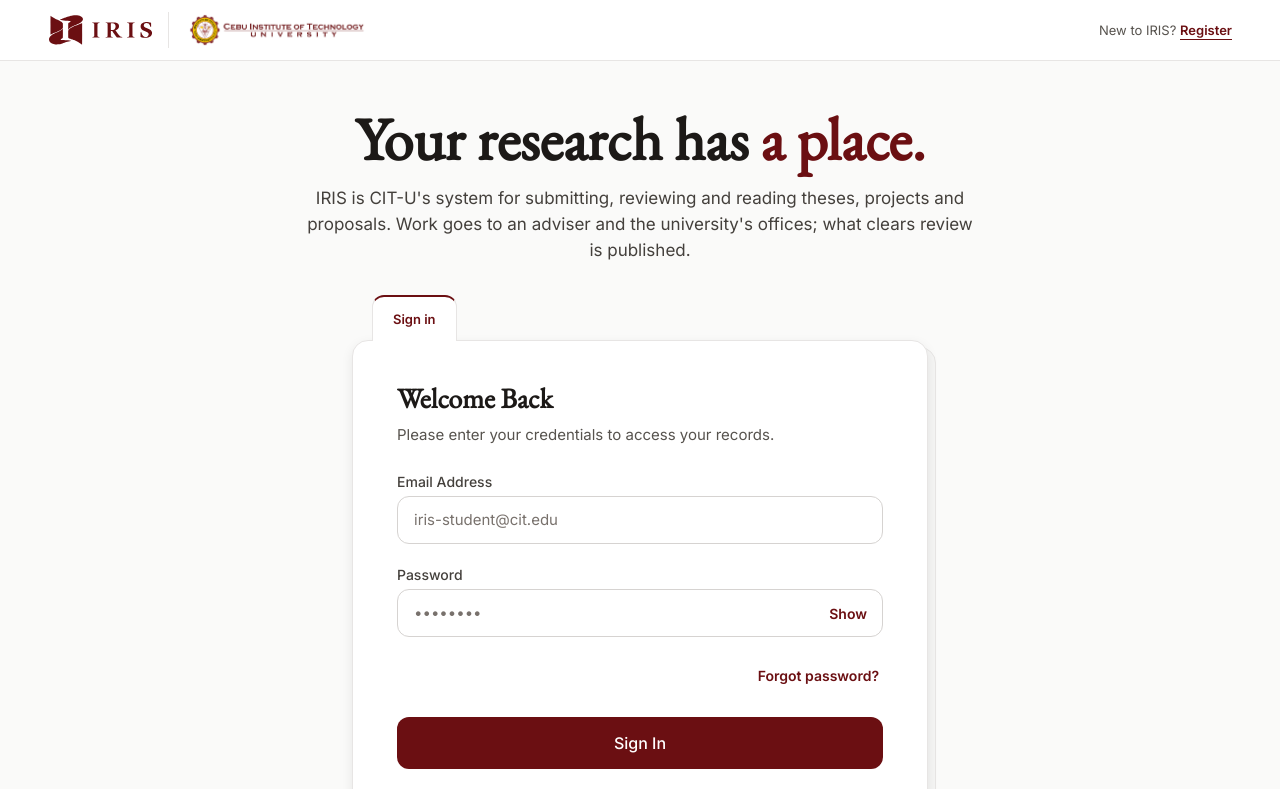
Test: the frame sign in opens in › announces a failed sign-in once, by the banner, and only marks the fields
The width and height of the screenshot is (1280, 789).
Step 1. Type "student@cit.edu" into the field labelled "Email Address" → (640,520), box left=397, top=496, right=883, bottom=544
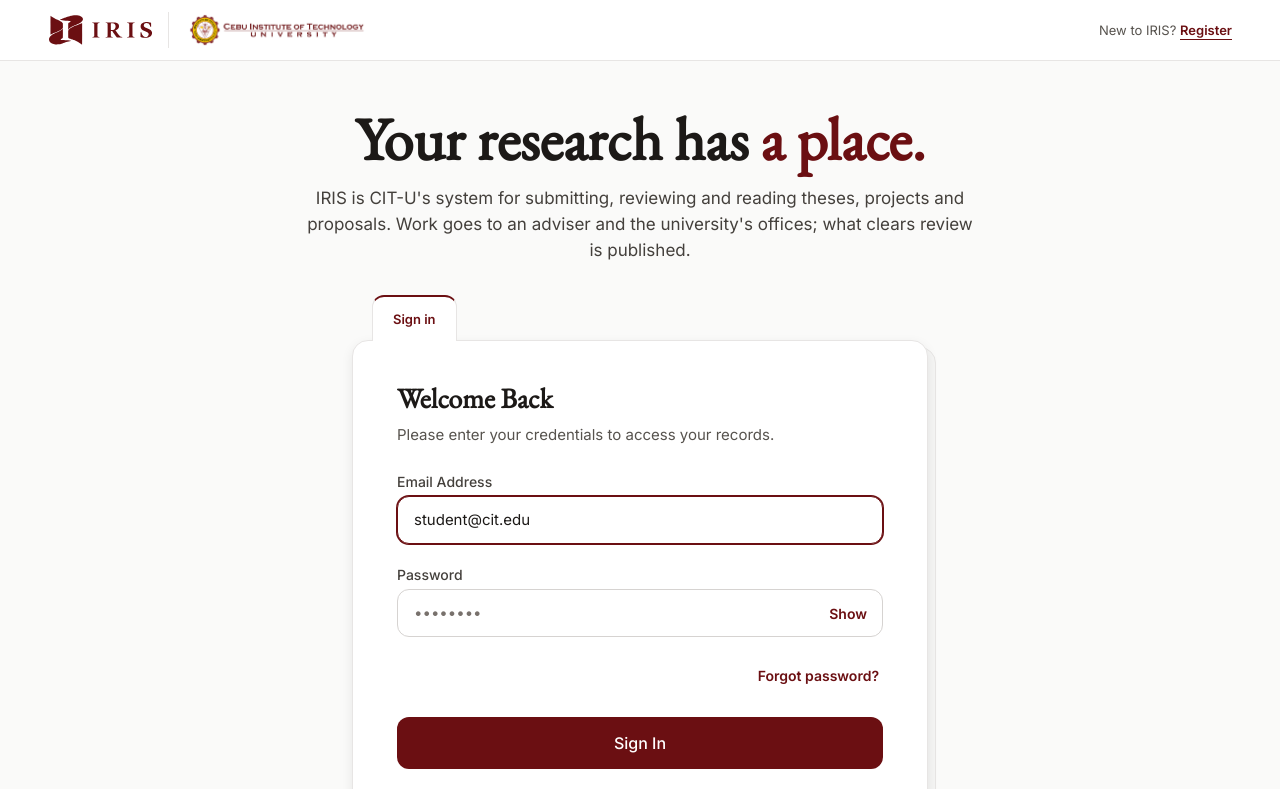
Step 2. Type "IrisDemo123!" into the password field labelled "Password" → (640,613), box left=397, top=589, right=883, bottom=637
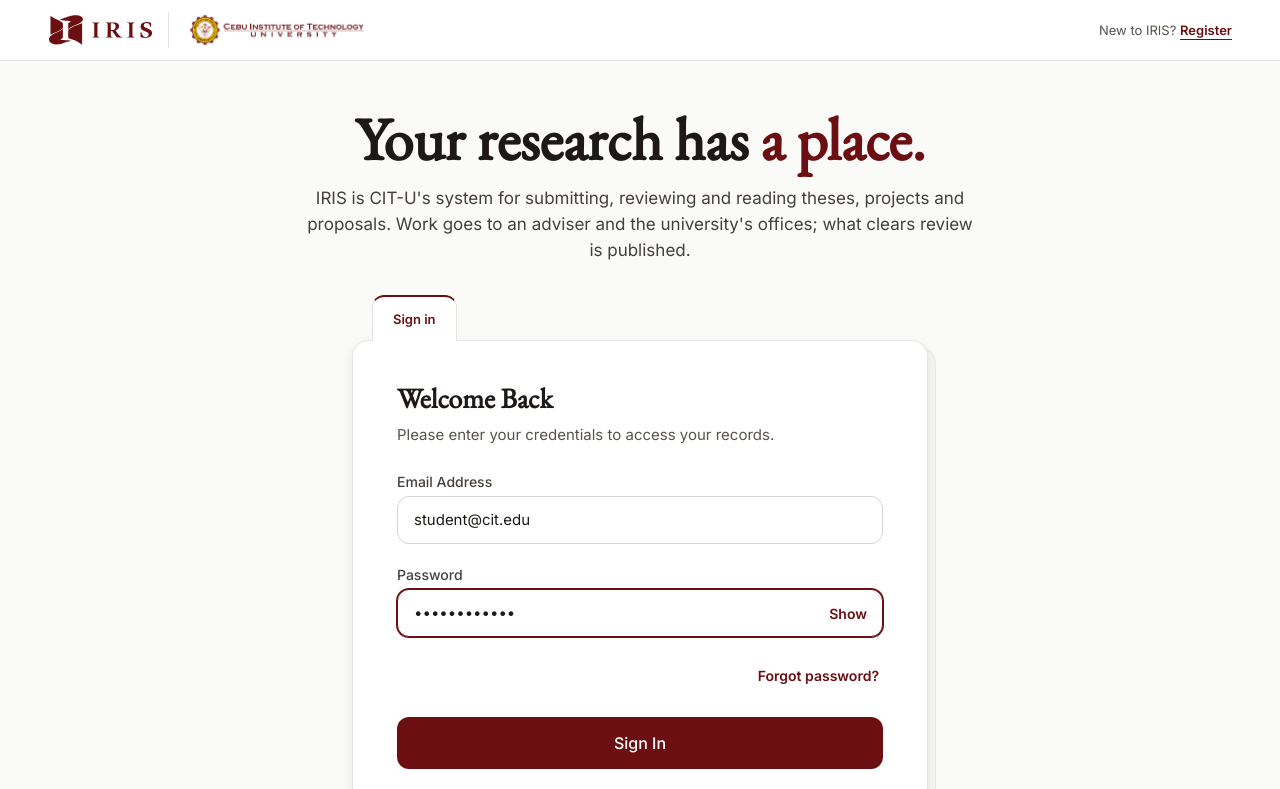
Step 3. Click the button "Sign In" → (640,743), box left=397, top=717, right=883, bottom=769
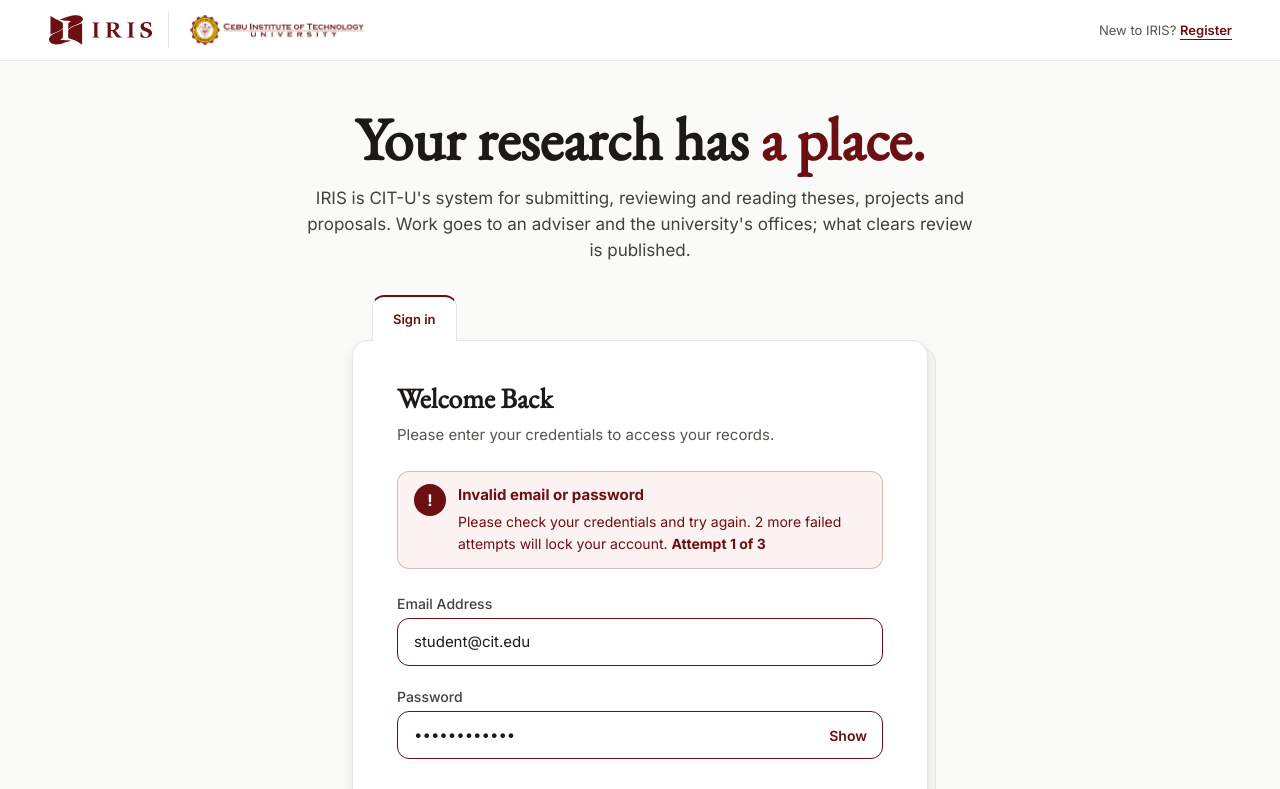
Expected: the message shows "Invalid email or password", left=458, top=485, right=644, bottom=504
Expected: the number of messages is 1, left=397, top=471, right=883, bottom=569
